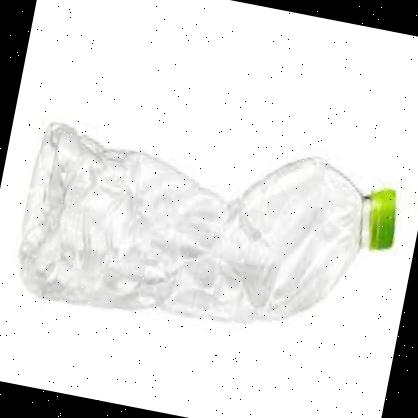bottle: (7, 96, 410, 370)
cap: (360, 181, 404, 257)
